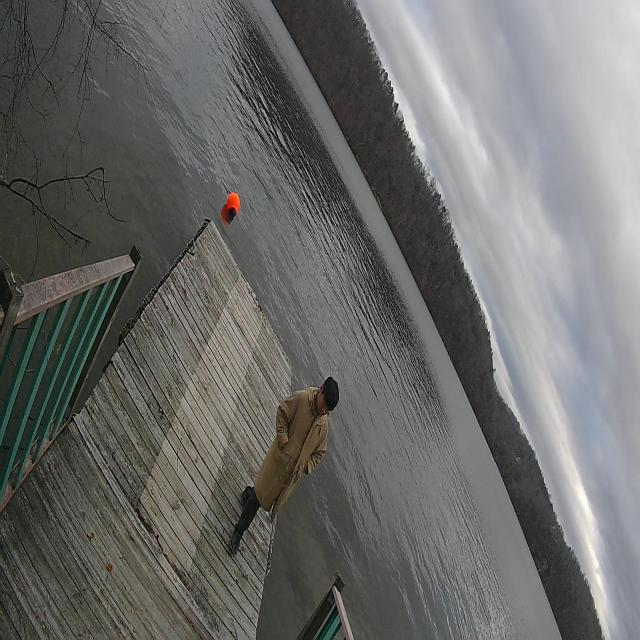Buoy: (224, 185, 242, 227)
